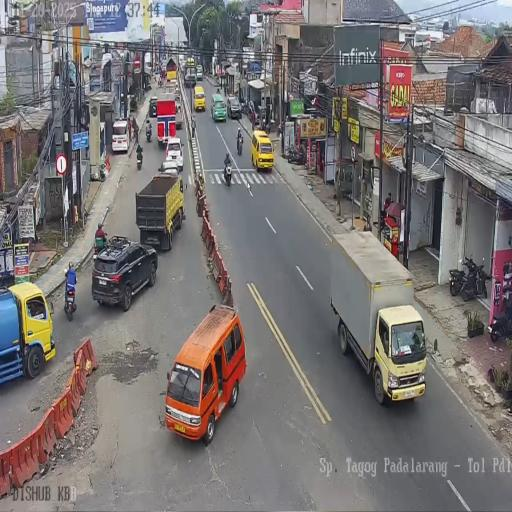car: (164, 305, 246, 443), (91, 237, 158, 311), (250, 130, 272, 172), (112, 118, 131, 154), (164, 137, 184, 171), (210, 92, 226, 122), (227, 94, 242, 119), (194, 85, 206, 111), (149, 95, 158, 117), (196, 64, 203, 80)
motorcycle: (448, 252, 489, 301), (488, 295, 512, 342), (63, 276, 77, 320), (285, 144, 304, 166), (240, 97, 255, 120), (236, 131, 244, 155), (136, 148, 143, 170), (145, 122, 152, 142), (132, 122, 138, 143), (276, 122, 283, 139), (191, 117, 196, 138), (158, 74, 164, 88)
truck: (329, 230, 419, 406), (1, 282, 54, 384), (135, 170, 185, 251), (155, 96, 177, 148), (185, 59, 196, 87), (166, 58, 177, 83), (174, 99, 183, 129)
